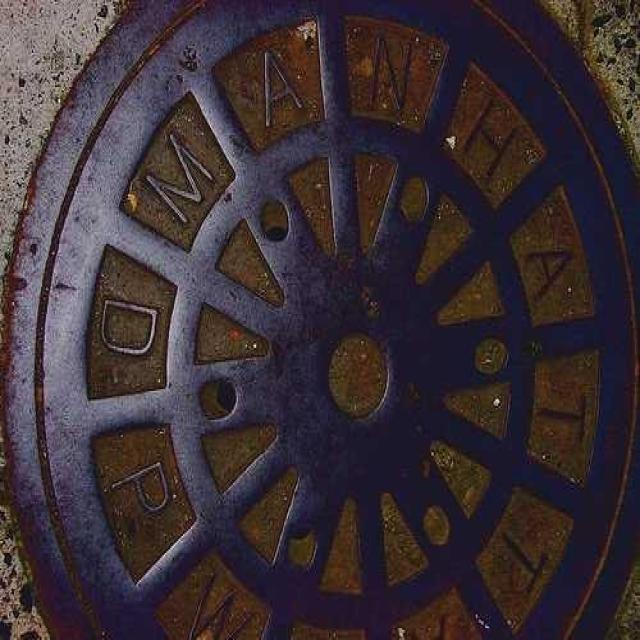manhole: (6, 0, 640, 638)
